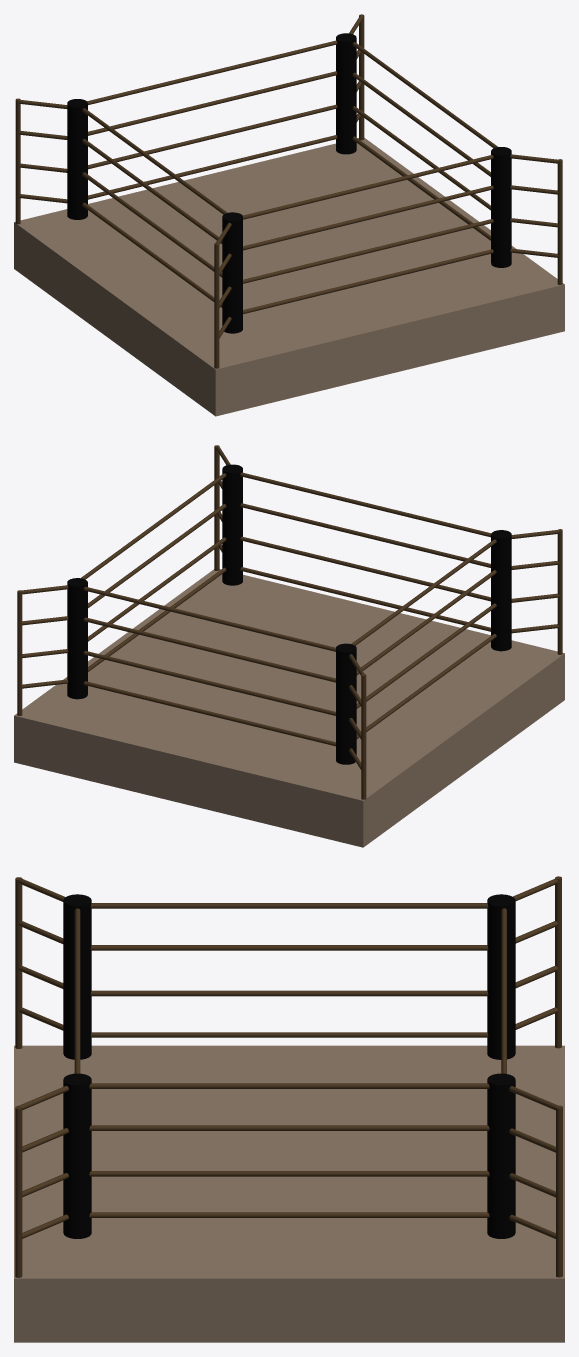
Rendered from Boxing_ring.fbx.
3 views of the same model, one above another, from view 1: azimuth 30°, elevation 25°; view 2: azimuth 150°, elevation 25°; view 3: azimuth 270°, elevation 25° (orthographic). The views are drawn at different scales.
Visible parts, largest first — view 1: boxing_ring_full; view 2: boxing_ring_full; view 3: boxing_ring_full.
Part boxes in pixels (<box>): boxing_ring_full: <box>14,14,564,416</box>; boxing_ring_full: <box>14,445,564,847</box>; boxing_ring_full: <box>14,876,564,1342</box>.
Bounding box in the file's own units: 781 × 369 × 780.
